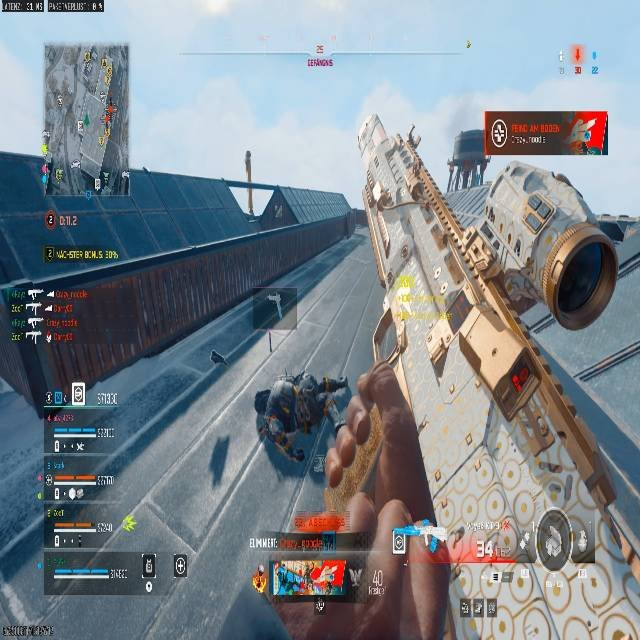player: (254, 371, 348, 469)
